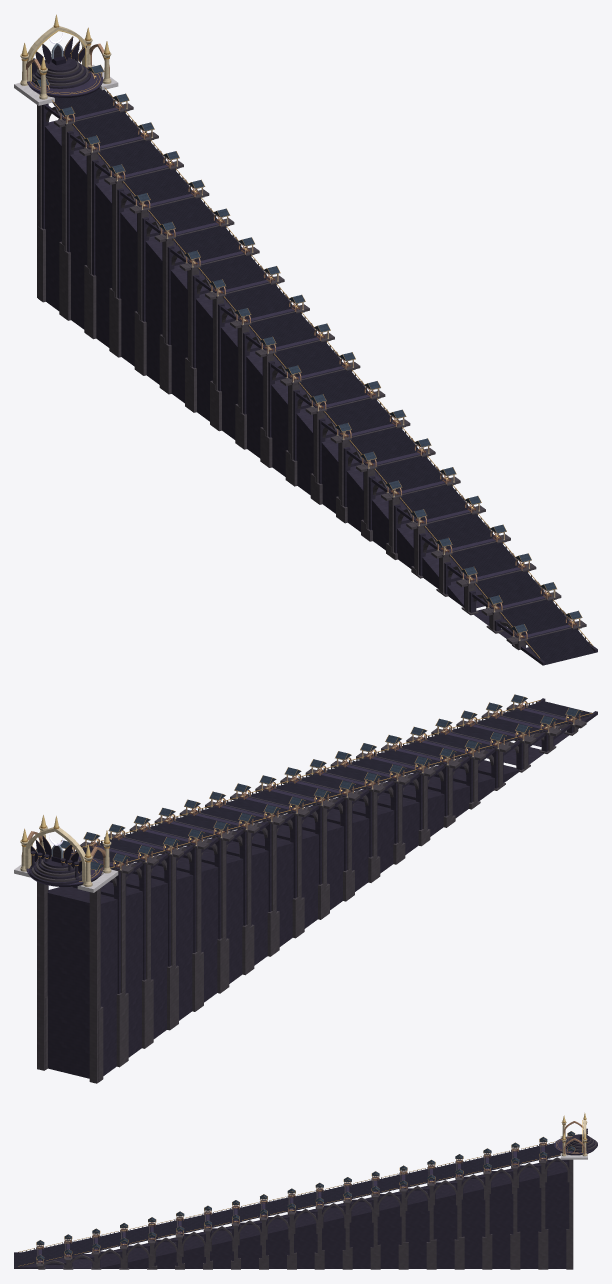
The model's file is arbitration-steps.glb.
The picture shows the model from 3 angles, top to bottom: view 1: azimuth 30°, elevation 25°; view 2: azimuth 150°, elevation 25°; view 3: azimuth 270°, elevation 25°; orthographic projection. The views are drawn at different scales.
Bounding box in the file's own units: 7.36 × 23.67 × 84.02.
19 materials, 19 textured.
